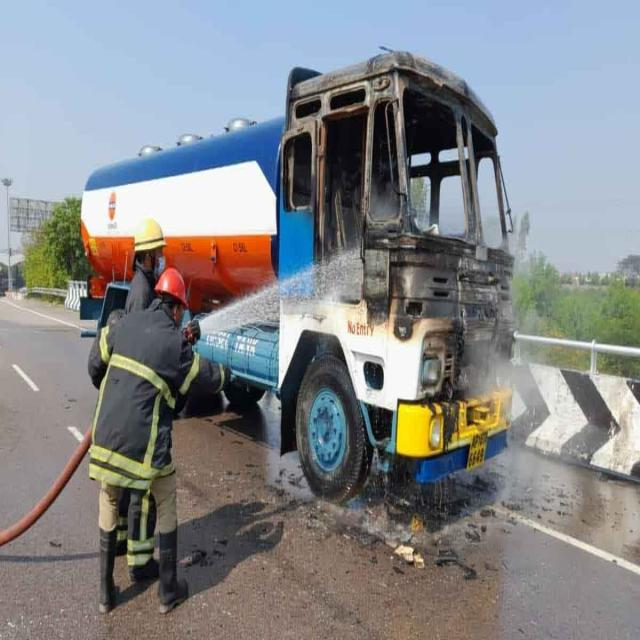accident: (81, 52, 514, 497)
